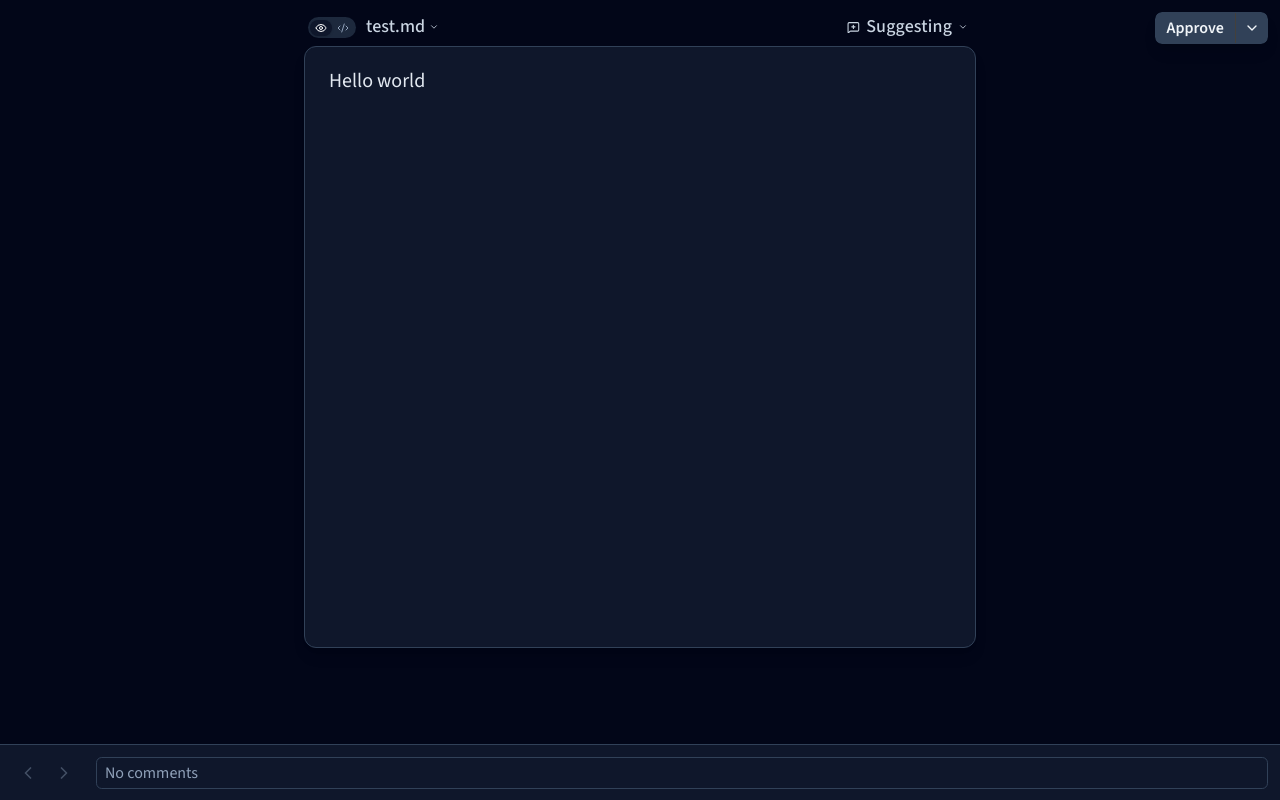
Test case: review handoff watcher affordance › shows the done reviewing button only for an active watcher
Click the button "Approve" at x=1195, y=28, box top-left (1155, 12), bottom-right (1236, 44)
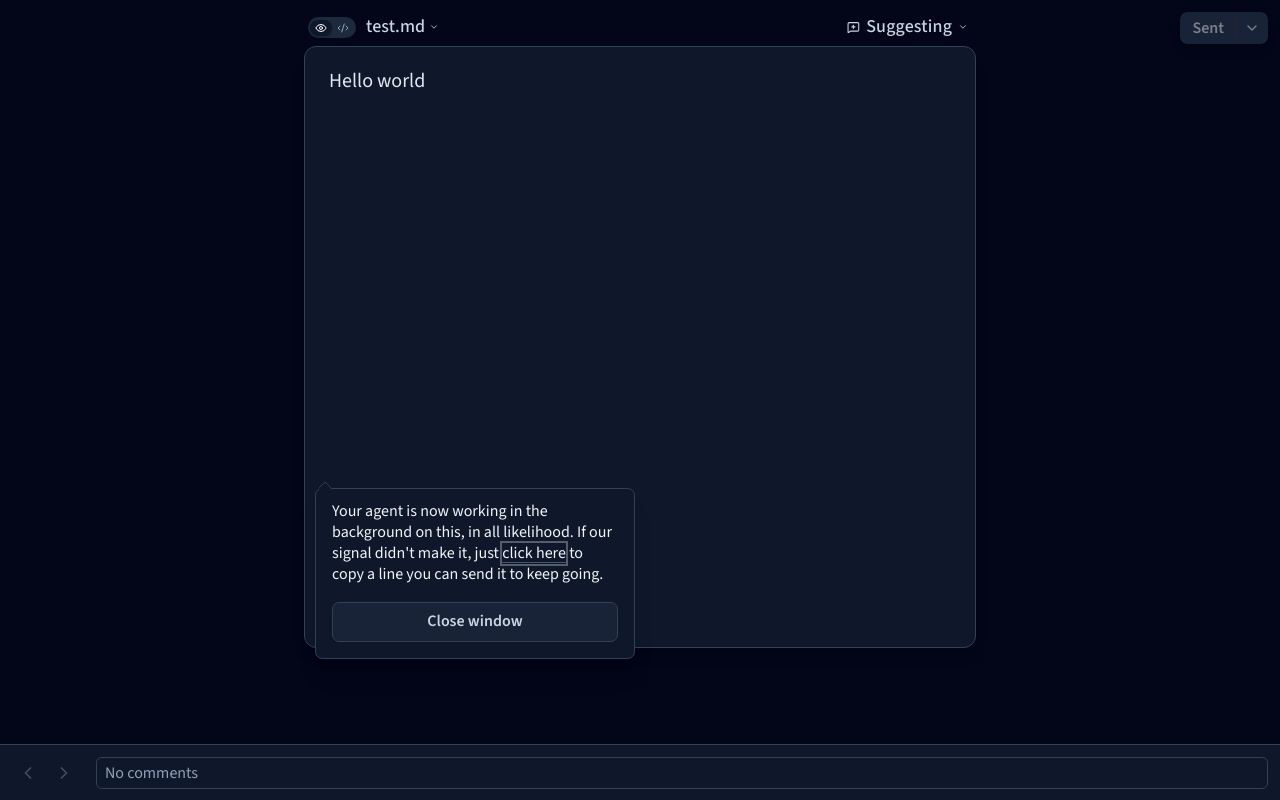
Expected: the text "Sent" is shown, top-left (1180, 12), bottom-right (1236, 44)
